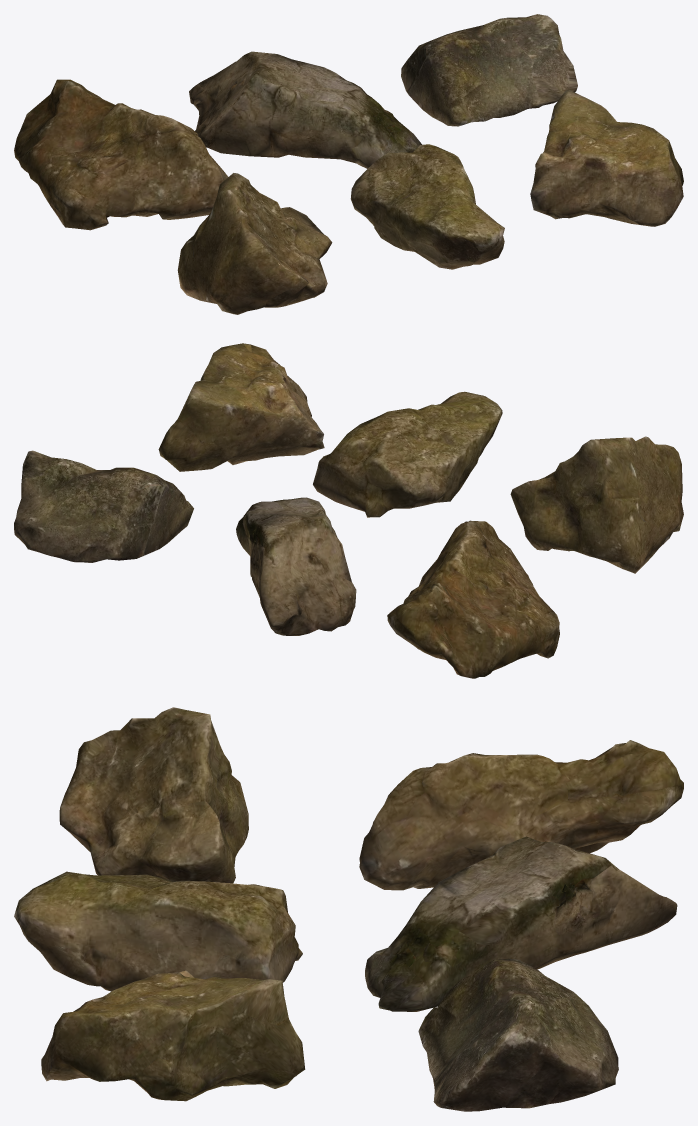
Rendered from glb_rocks.d73d5513.glb.
3 views of the same model, one above another, from view 1: azimuth 30°, elevation 25°; view 2: azimuth 150°, elevation 25°; view 3: azimuth 270°, elevation 25° (orthographic). The views are drawn at different scales.
Visible parts, largest first — view 1: rock_moss_set_01_rock01; view 2: rock_moss_set_01_rock01; view 3: rock_moss_set_01_rock01.
Boxes of the visible parts, x1,y1,x2,y2 form: rock_moss_set_01_rock01: [14, 14, 683, 314]; rock_moss_set_01_rock01: [14, 343, 683, 678]; rock_moss_set_01_rock01: [14, 707, 683, 1111].
Size of the model in its own units: 8 by 1.76 by 6.94.
1 material, 1 textured.
